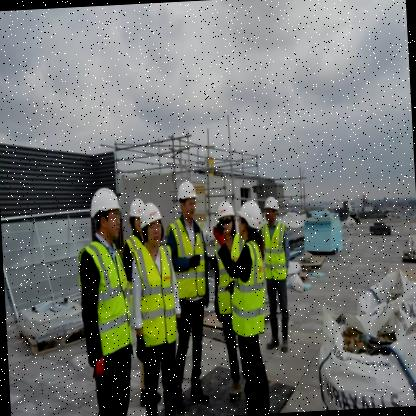capacete: (87, 185, 124, 244), (235, 197, 264, 240), (138, 200, 164, 247), (176, 179, 200, 219), (214, 198, 236, 235), (127, 197, 145, 238), (262, 195, 280, 224)
colete_refletivo: (74, 233, 133, 362), (128, 242, 182, 348), (228, 232, 268, 337), (165, 214, 211, 304), (211, 235, 246, 316), (260, 219, 292, 280)
